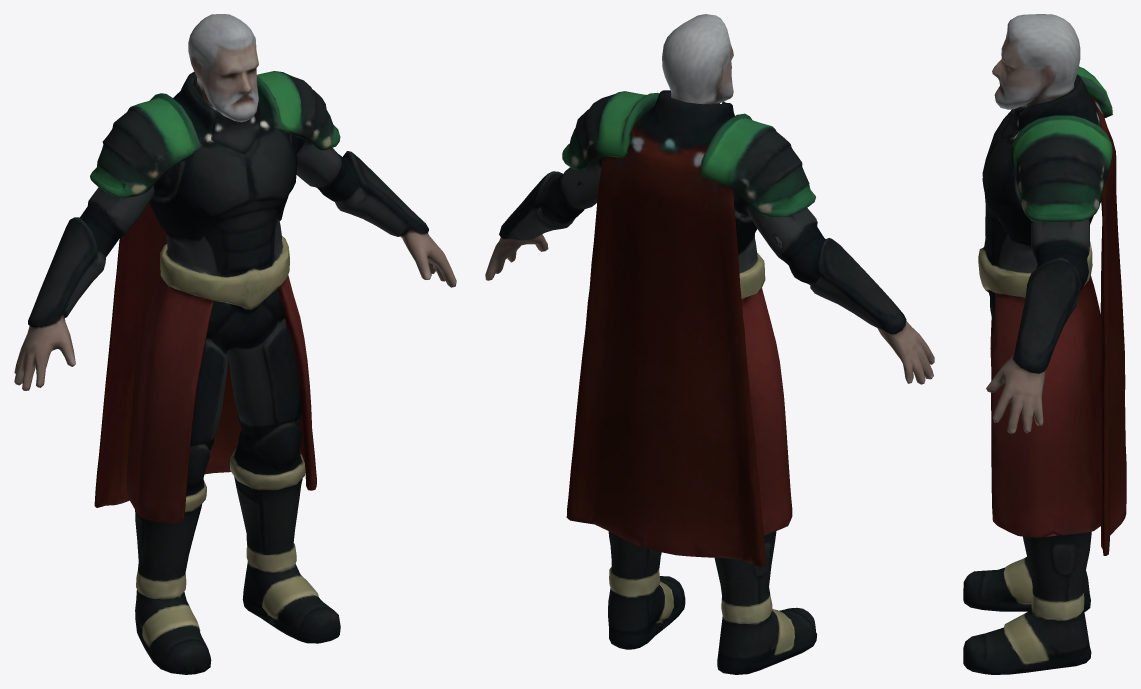
The model's file is vb-overlord.glb.
The picture shows the model from 3 angles, left to right: view 1: azimuth 30°, elevation 25°; view 2: azimuth 150°, elevation 25°; view 3: azimuth 270°, elevation 25°; orthographic projection.
Visible parts, largest first — view 1: geometry_0; view 2: geometry_0; view 3: geometry_0.
Part boxes in pixels (left/top/right/bottom): geometry_0: left=14, top=14, right=456, bottom=674; geometry_0: left=485, top=14, right=934, bottom=674; geometry_0: left=963, top=14, right=1126, bottom=674.
Bounding box in the file's own units: 0.7423 × 1 × 0.2411.
Materials: 1 (1 with a texture image).
